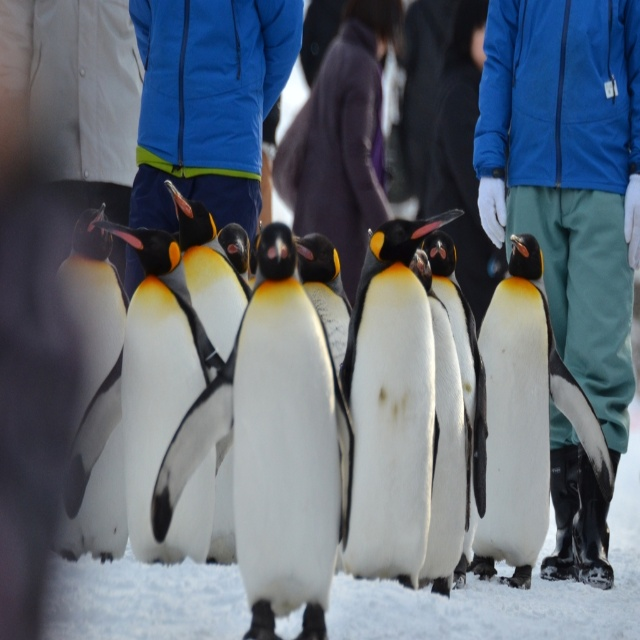Penguin: (148, 223, 354, 639), (62, 214, 226, 581), (468, 224, 618, 593), (334, 200, 466, 591), (162, 174, 258, 568), (56, 202, 130, 561), (410, 248, 468, 606), (296, 224, 356, 568), (426, 229, 492, 514), (214, 215, 252, 297)
